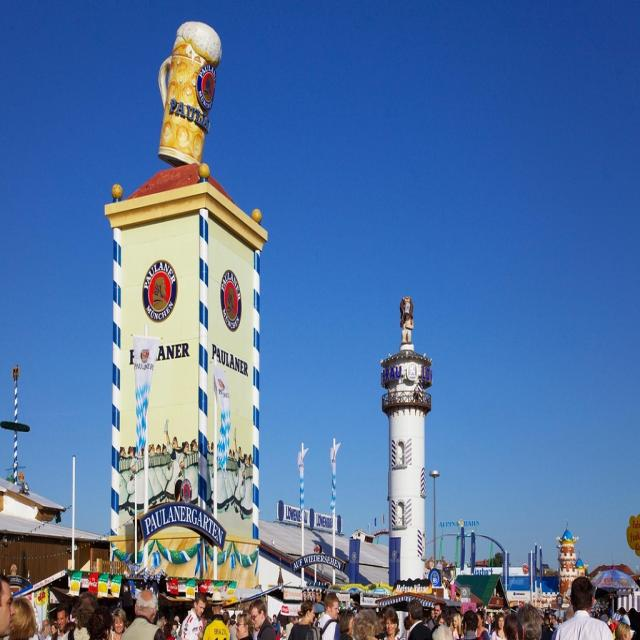paulaner: (144, 262, 179, 322), (220, 272, 243, 331)
